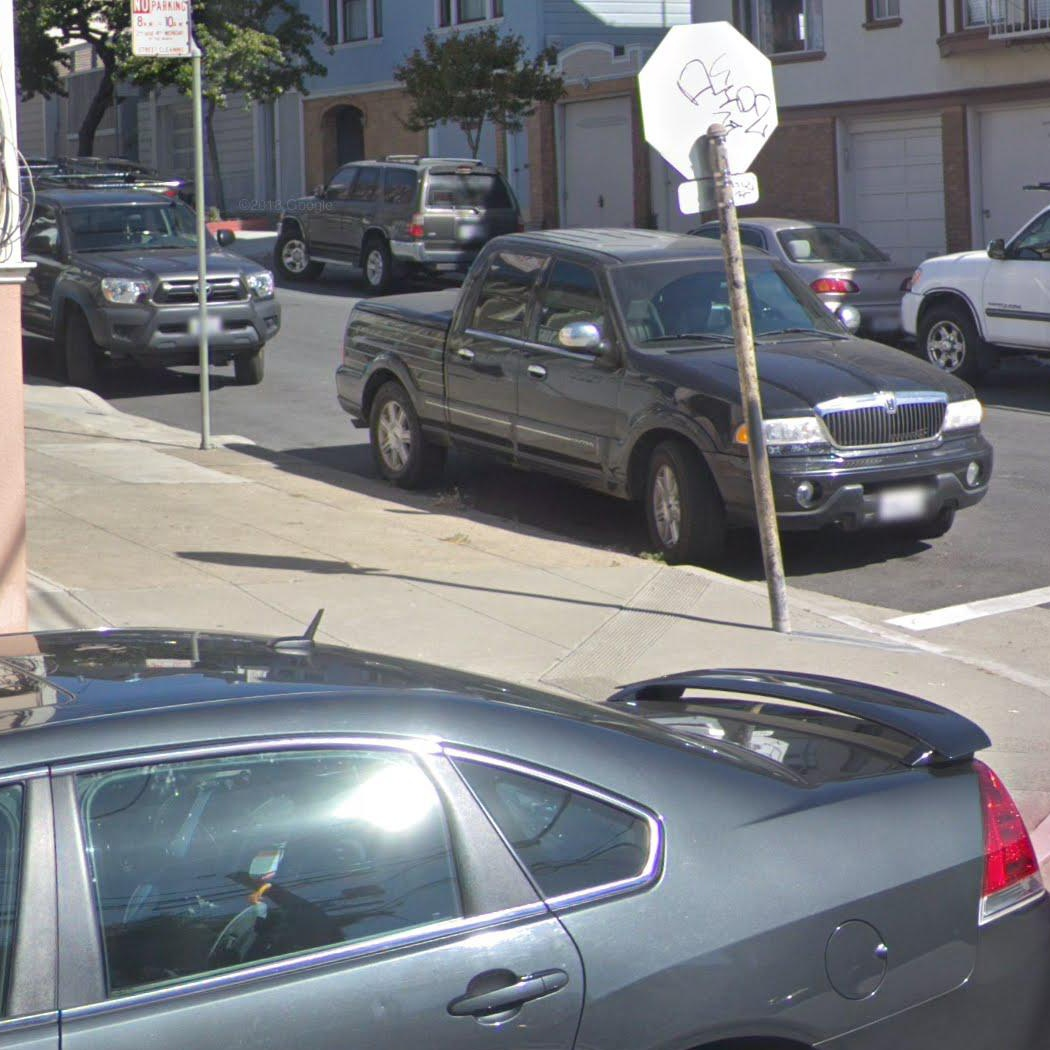No Parking: (127, 0, 195, 59)
